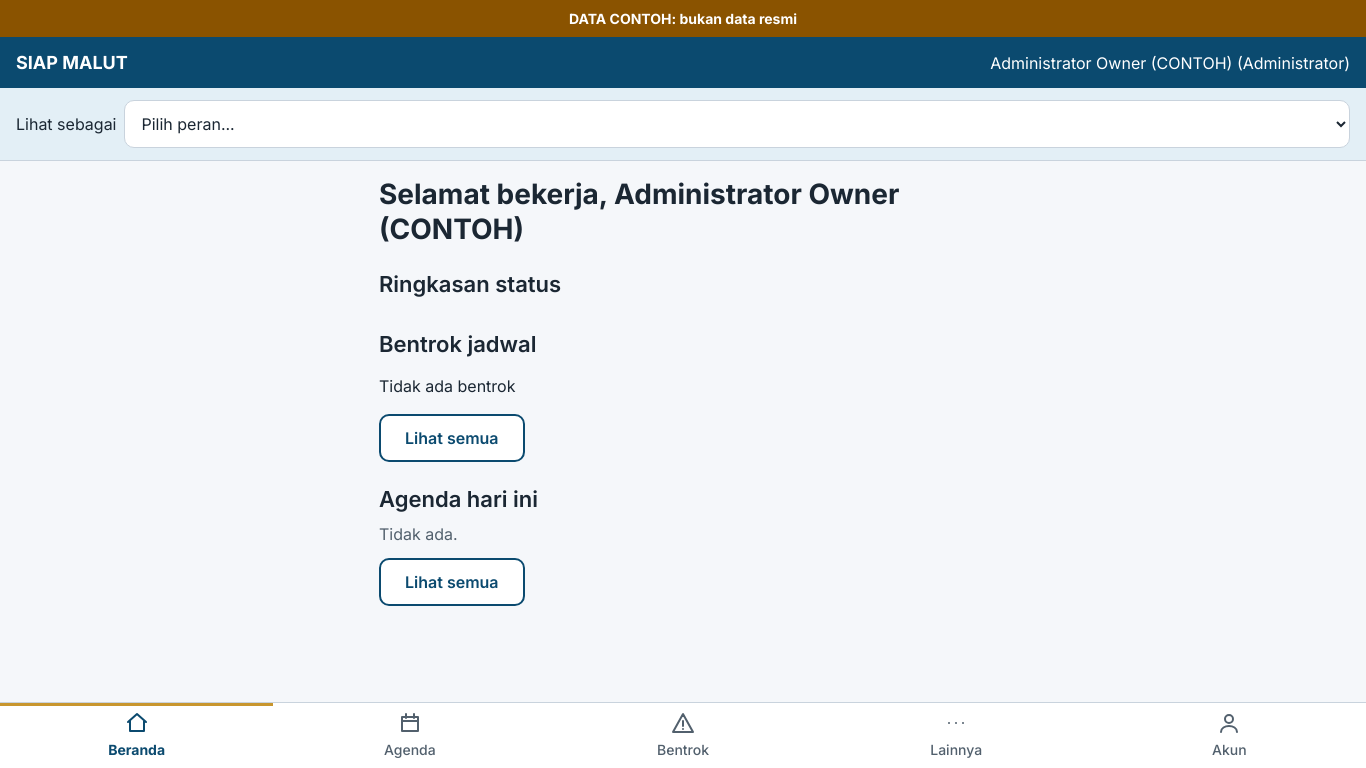
Test case: KB-021 dan KB-032: navigasi menurut izin dan persona demo › KB-032: pemilih persona hanya untuk admin pada mode demo; pita muncul saat persona aktif
Select "Gubernur (CONTOH)" in the dropdown labelled "Lihat sebagai". click: (737, 124)
box: [124, 100, 1350, 148]
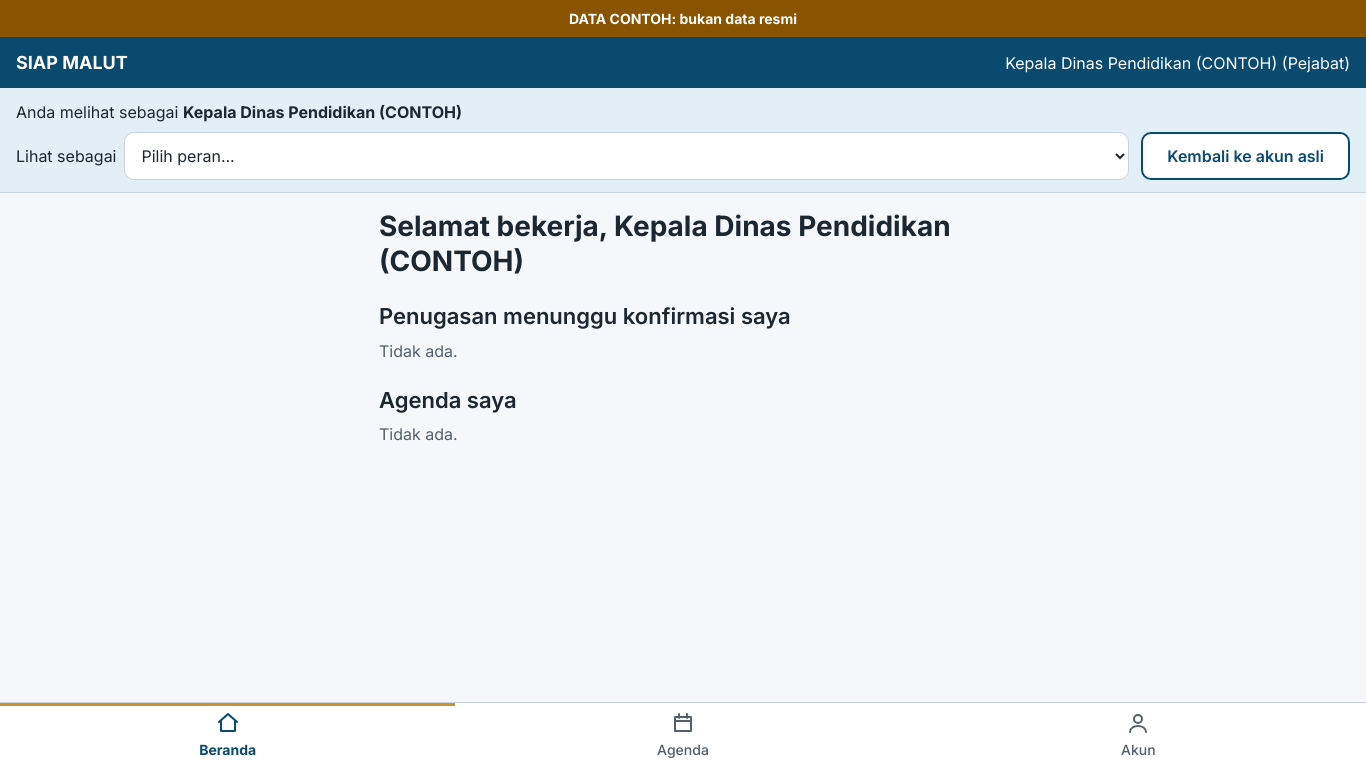
Result: the button "Kembali ke akun asli" is shown at [1141, 132, 1350, 180]
Result: the text "Anda melihat sebagai" is shown at [16, 102, 178, 122]
